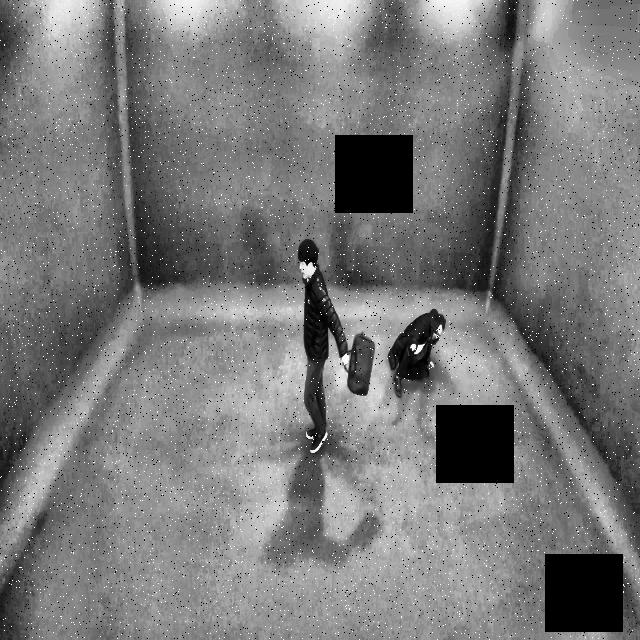assult: (294, 228, 448, 456)
